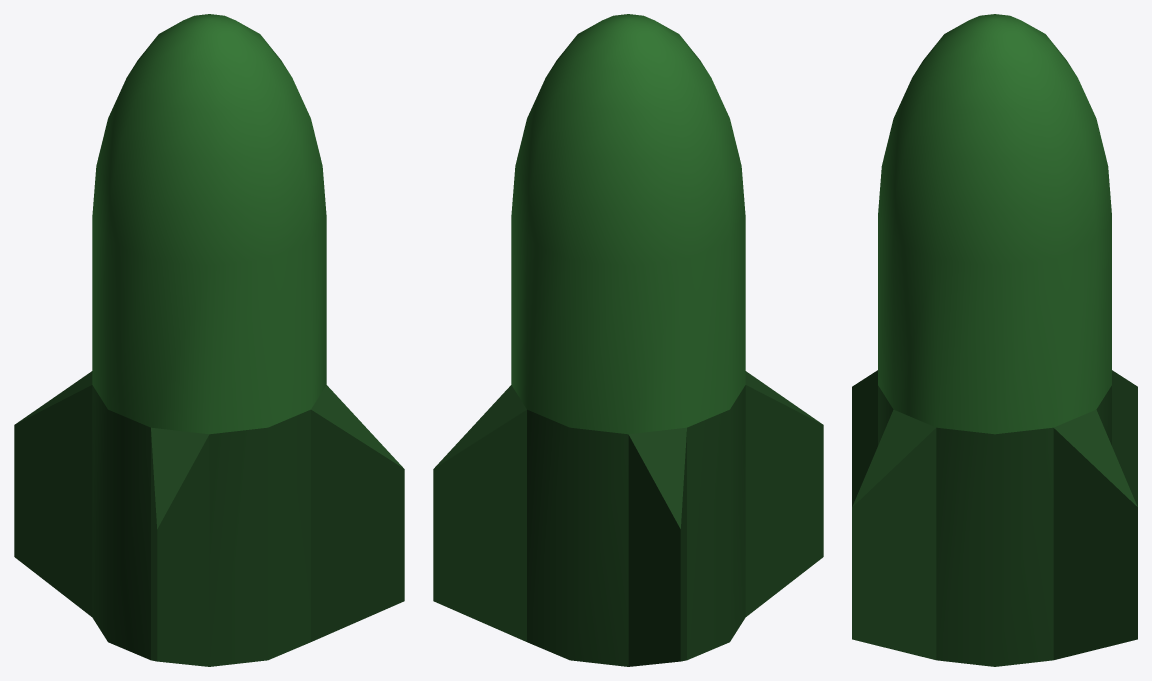
File: missile.fbx
The picture shows the model from 3 angles, left to right: view 1: azimuth 30°, elevation 25°; view 2: azimuth 150°, elevation 25°; view 3: azimuth 270°, elevation 25°; orthographic projection.
Visible parts, largest first — view 1: pSphere1; view 2: pSphere1; view 3: pSphere1.
Part boxes in pixels (x1,y1,x2,y2): pSphere1: [14, 14, 404, 666]; pSphere1: [433, 14, 823, 666]; pSphere1: [852, 14, 1137, 666].
Bounding box in the file's own units: 2.44 × 5.63 × 2.44.
1 material, 1 textured.
